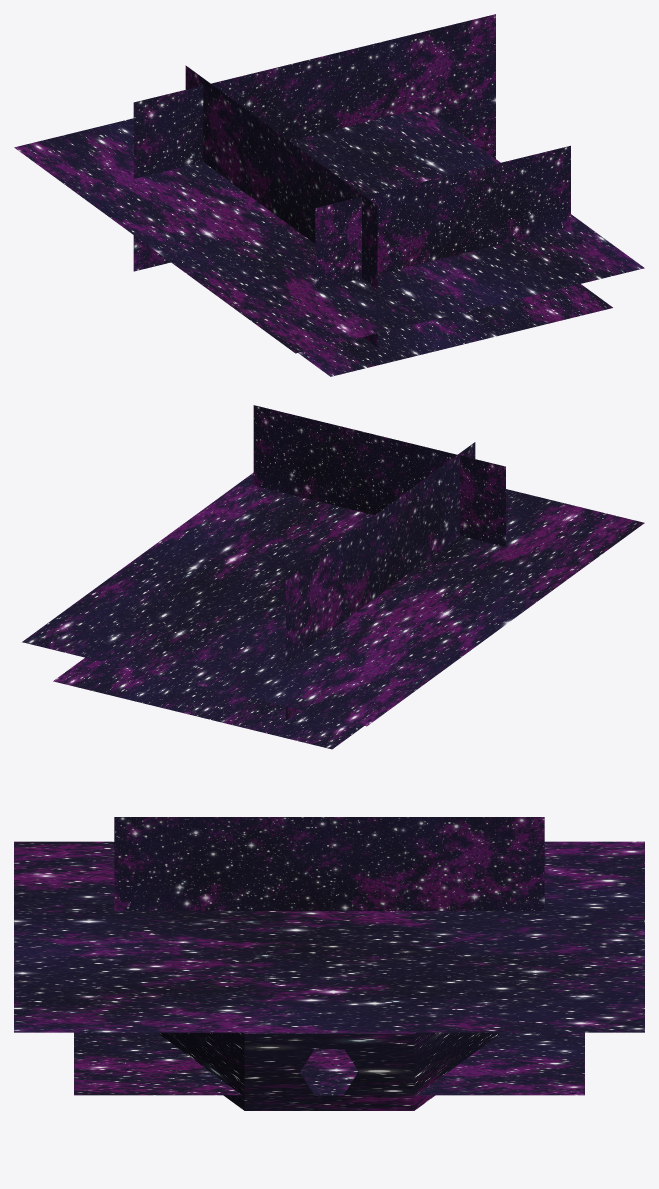
Rendered from EndgameWalls.fbx.
The picture shows the model from 3 angles, top to bottom: view 1: azimuth 30°, elevation 25°; view 2: azimuth 150°, elevation 25°; view 3: azimuth 270°, elevation 25°; orthographic projection. The views are drawn at different scales.
Visible parts, largest first — view 1: Endgame_Roof, Endgame_Wall_Right, Endgame_Wall_left, Endgame_Far_wall, Endgame_Ground; view 2: Endgame_Roof, Endgame_Wall_left, Endgame_Far_wall, Endgame_Ground; view 3: Endgame_Roof, Endgame_Far_wall, Endgame_Ground, EndgamePortalThickWall.
Part boxes in pixels (box(x1,y1,x2,y2)): Endgame_Roof: box(14, 108, 644, 353); Endgame_Wall_Right: box(133, 14, 495, 271); Endgame_Wall_left: box(315, 145, 570, 289); Endgame_Far_wall: box(185, 65, 377, 347); Endgame_Ground: box(298, 284, 612, 376); Endgame_Roof: box(22, 472, 644, 726); Endgame_Wall_left: box(253, 405, 505, 546); Endgame_Far_wall: box(285, 442, 475, 720); Endgame_Ground: box(53, 657, 364, 749); Endgame_Roof: box(14, 841, 644, 1032); Endgame_Far_wall: box(114, 817, 544, 910); Endgame_Ground: box(74, 1032, 584, 1095); EndgamePortalThickWall: box(159, 1032, 499, 1110).
Size of the model in its own units: 5368 by 2157 by 6236.
